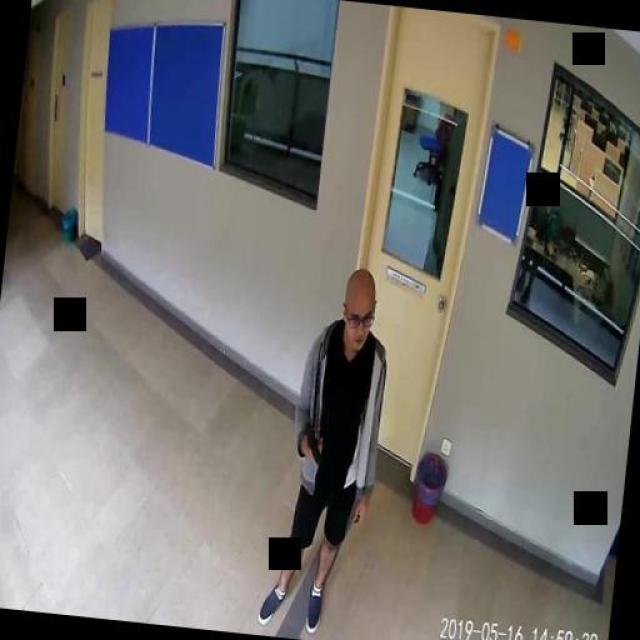gun: (302, 422, 322, 463)
